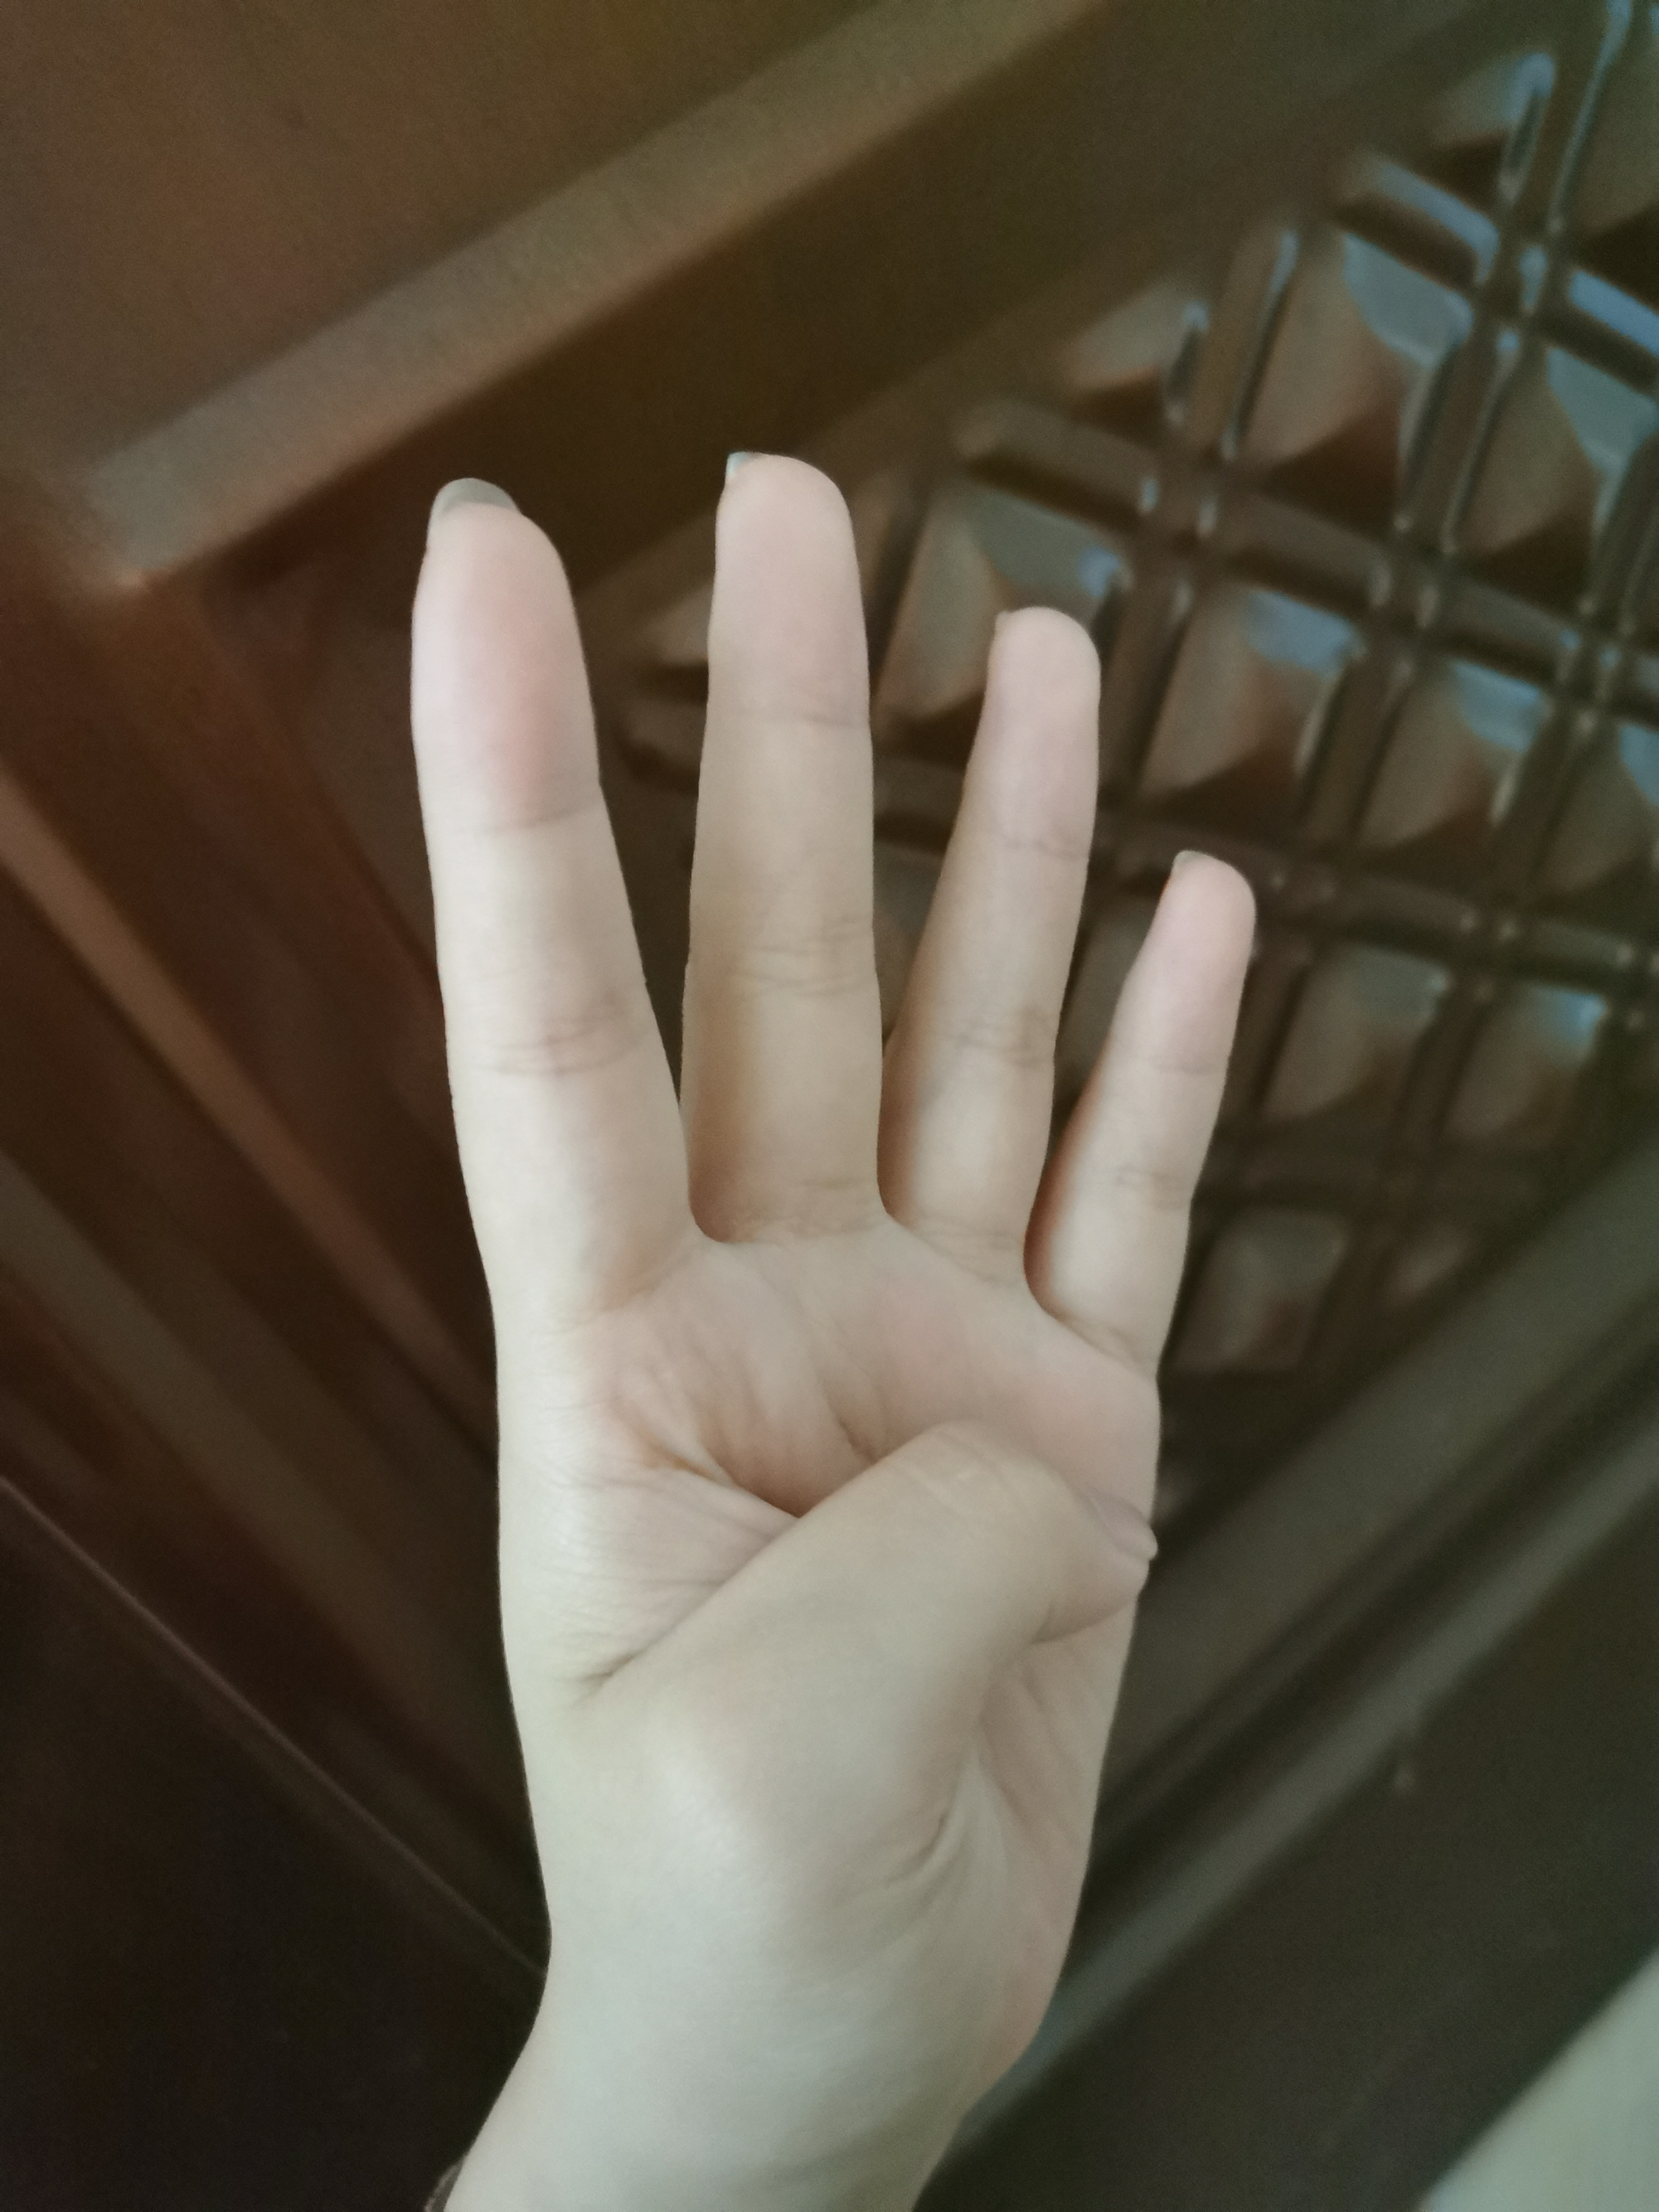right: (416, 446, 1234, 2031)
